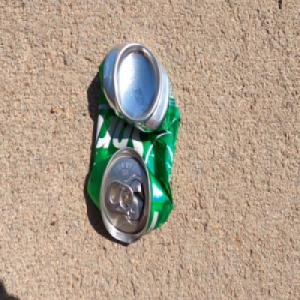SodaCan: (86, 41, 182, 246)
